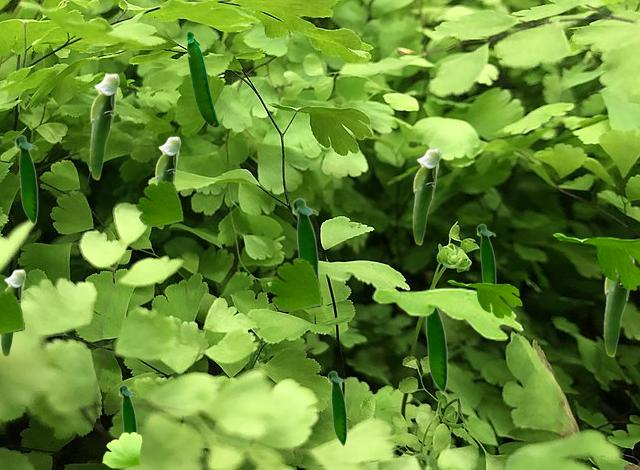pea: (603, 257, 636, 356), (89, 73, 119, 179), (186, 30, 218, 126), (412, 148, 440, 244), (154, 136, 180, 228), (0, 269, 25, 356), (14, 134, 37, 226), (291, 197, 318, 275), (425, 309, 447, 395), (327, 370, 346, 447), (476, 223, 495, 282), (118, 384, 136, 432)
